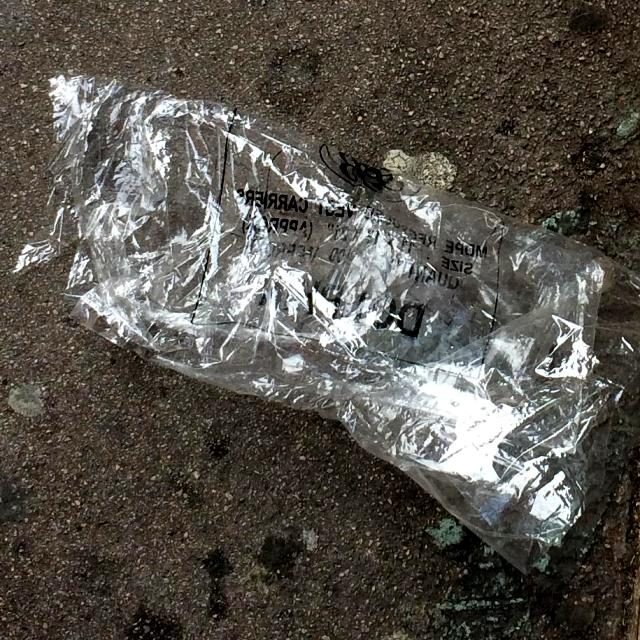Trash: (34, 41, 640, 603)
